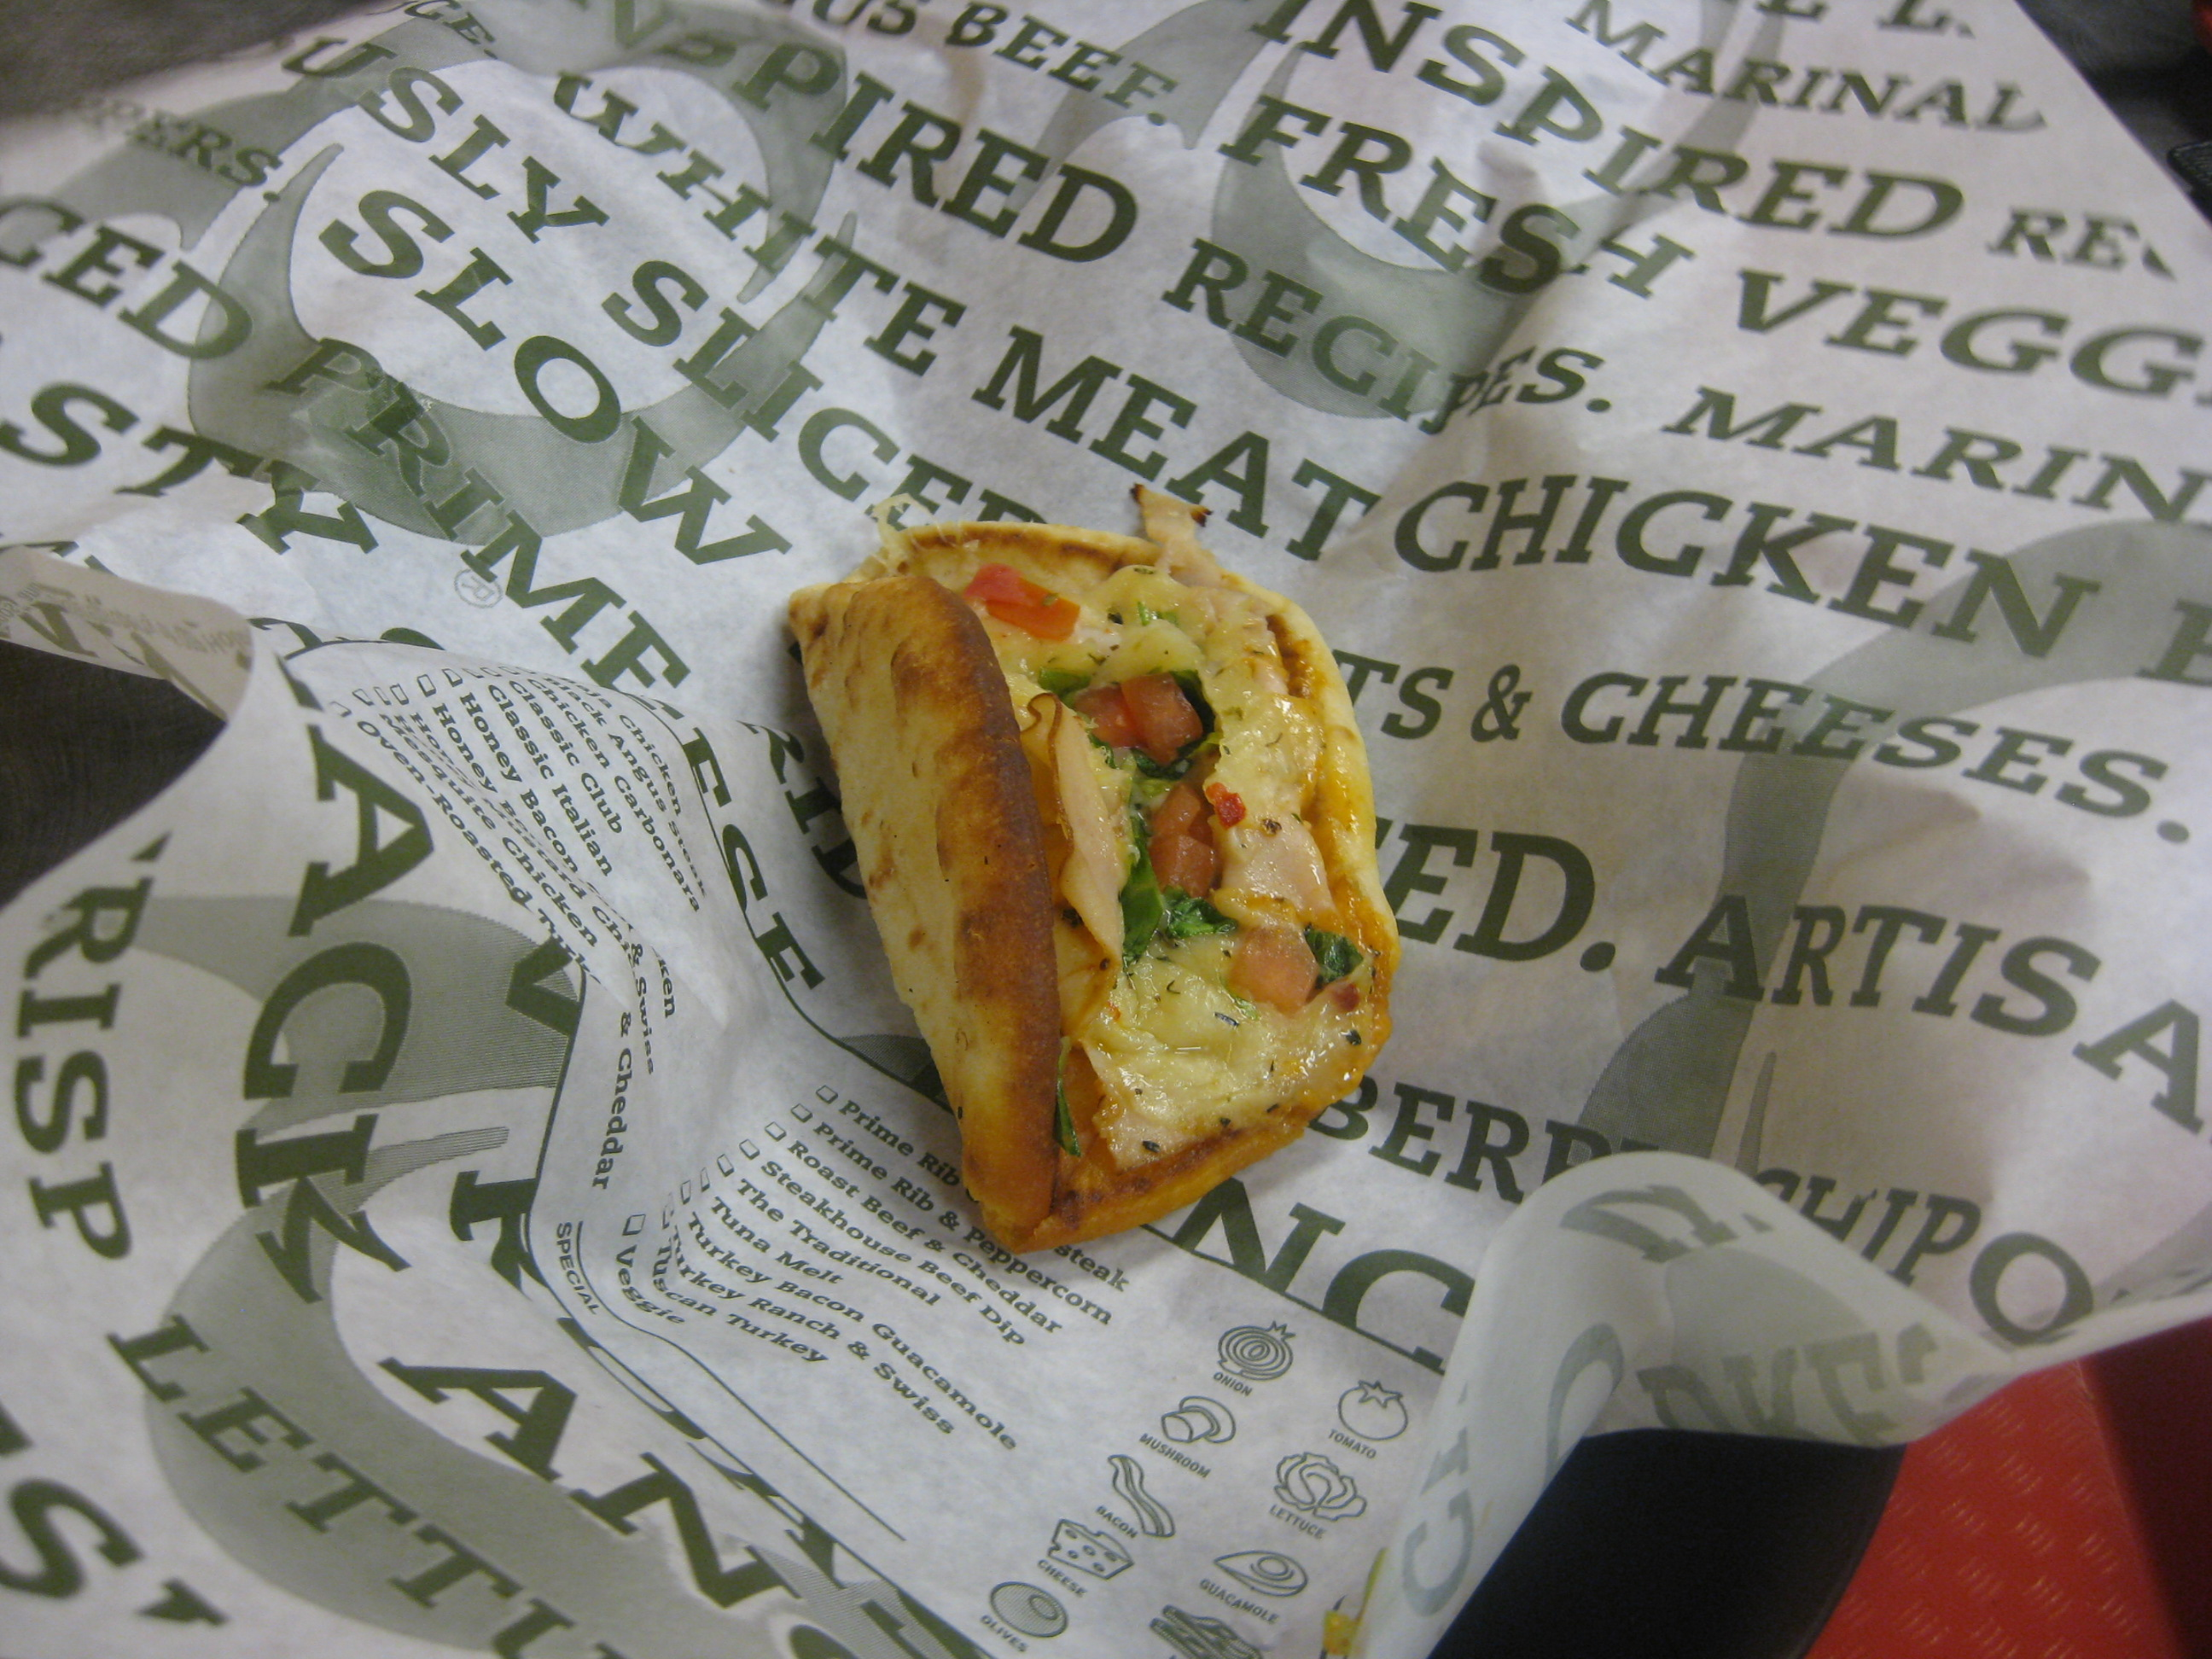taco: (686, 441, 1514, 1243)
